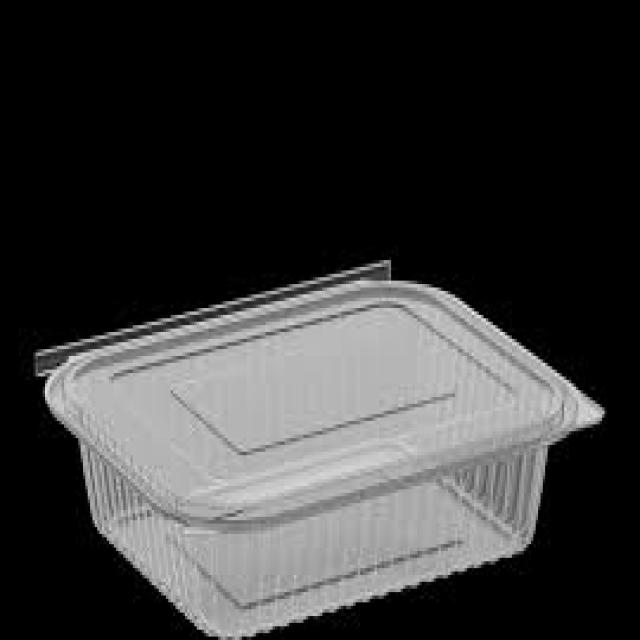disposable: (31, 267, 604, 640)
